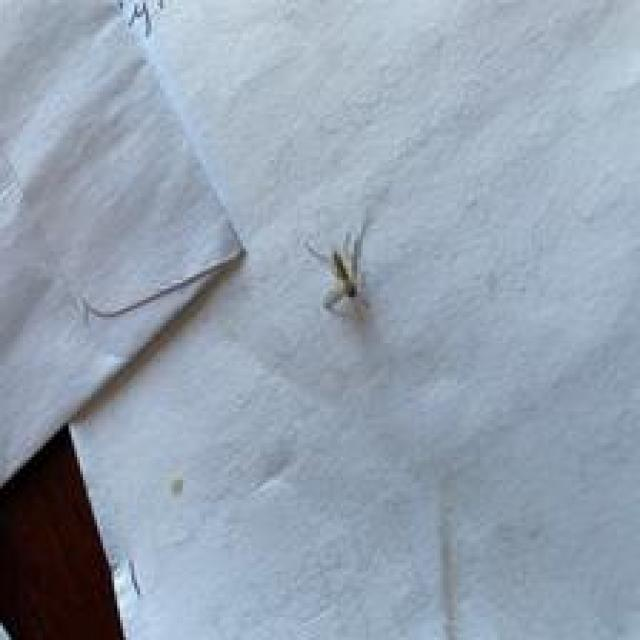Culex: (304, 216, 373, 321)
